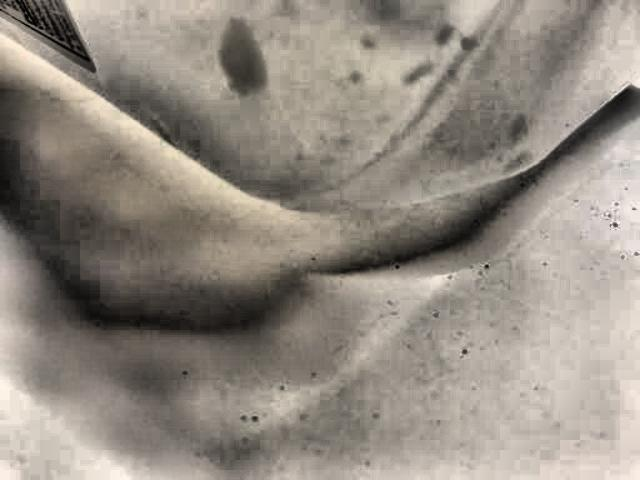Plastic: (0, 0, 640, 221)
